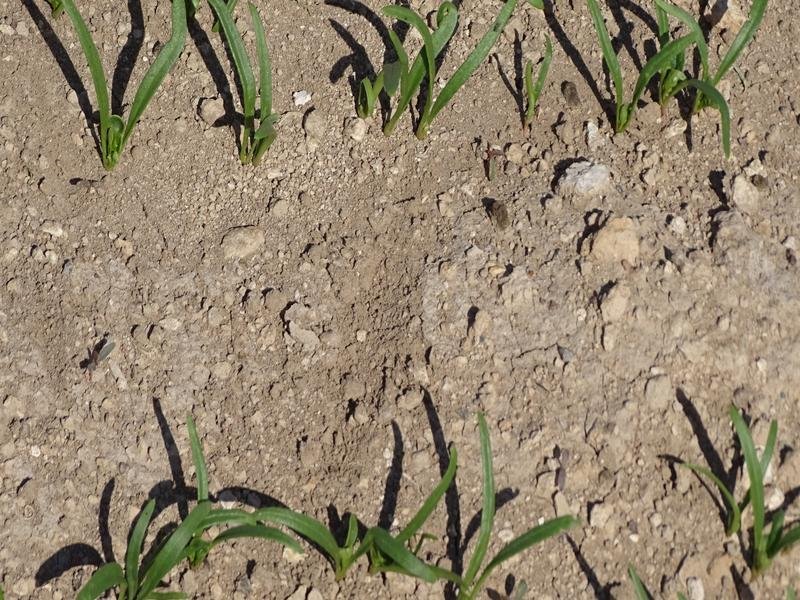Espinaca: (86, 405, 584, 587), (576, 1, 771, 147), (65, 1, 193, 167), (370, 1, 514, 137), (683, 417, 800, 559), (208, 1, 288, 158)
